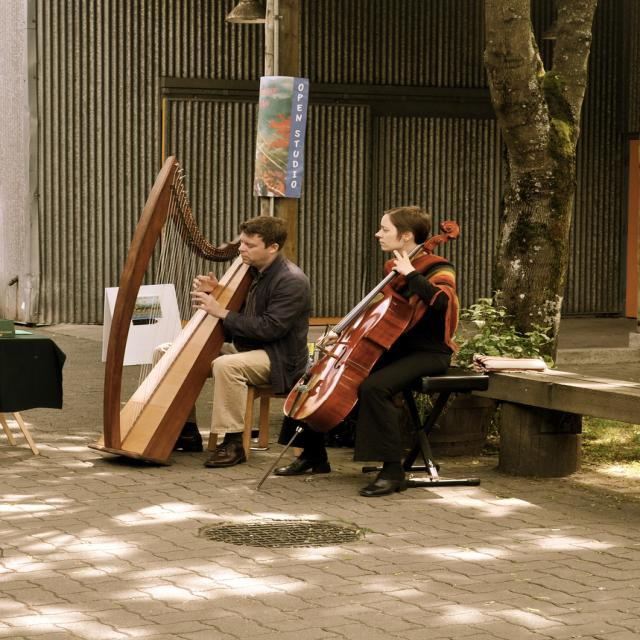cello: (281, 219, 459, 430)
harp: (86, 155, 265, 467)
